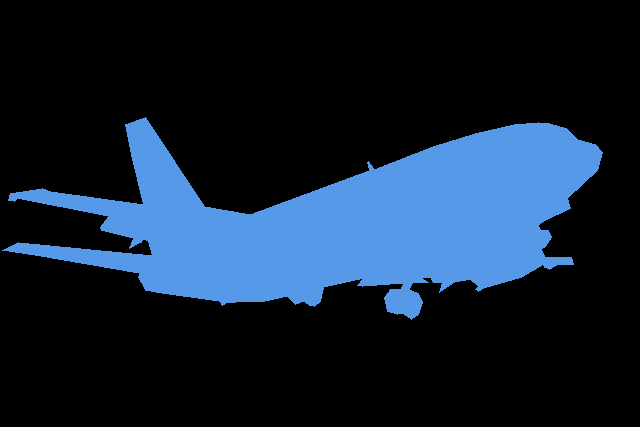Airplane: (2, 117, 602, 319)
